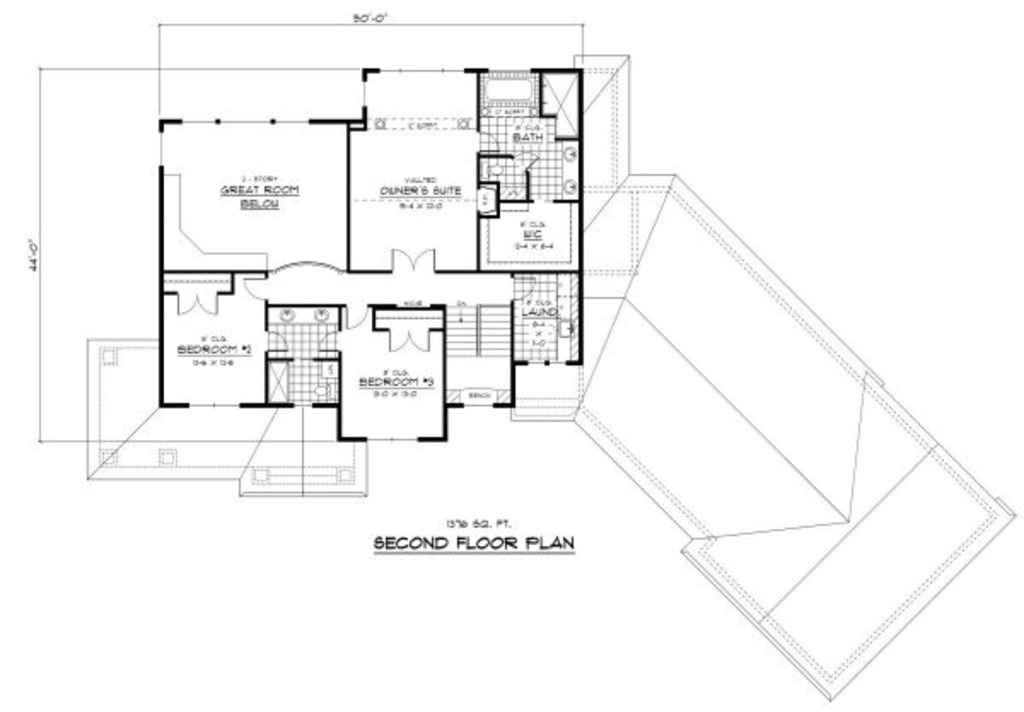door: (172, 287, 219, 319), (390, 251, 440, 279), (385, 324, 435, 351), (241, 272, 268, 302), (342, 304, 368, 331)
small_sink: (267, 303, 339, 329), (555, 140, 583, 199)
stairs: (442, 298, 513, 408)
tub: (475, 73, 540, 110)
windows: (179, 116, 313, 130), (374, 66, 468, 79), (366, 435, 424, 446), (184, 401, 240, 411)
